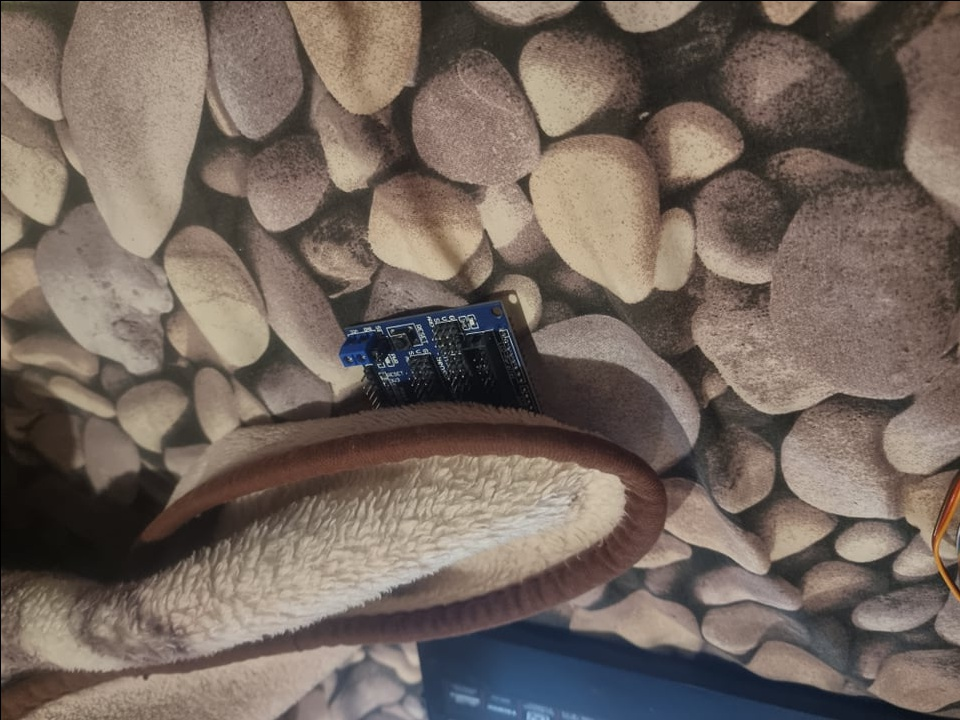5V EXPANSION: (337, 296, 544, 419)
